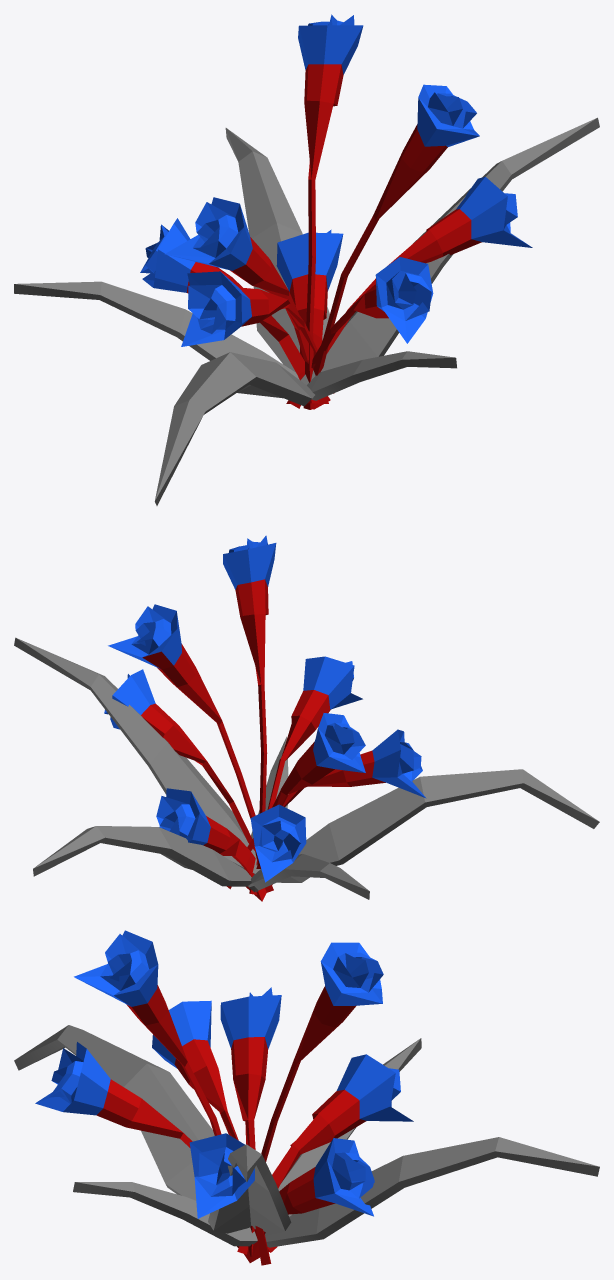
The model's file is PatchNarcissus03.fbx.
3 renders of one model, top to bottom at view 1: azimuth 30°, elevation 25°; view 2: azimuth 150°, elevation 25°; view 3: azimuth 270°, elevation 25°, orthographic. The views are drawn at different scales.
Parts seen in each view (by area): view 1: PatchNarcissus03; view 2: PatchNarcissus03; view 3: PatchNarcissus03.
Part boxes in pixels (x1,y1,x2,y2): PatchNarcissus03: (14,14,599,505); PatchNarcissus03: (14,535,599,901); PatchNarcissus03: (14,930,599,1265).
Bounding box in the file's own units: 81.07 × 48.38 × 73.17.
